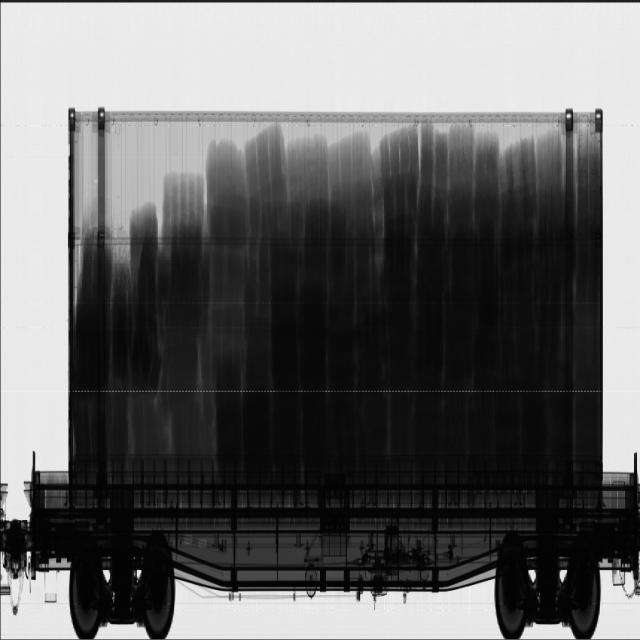clothes: (72, 119, 597, 465)
